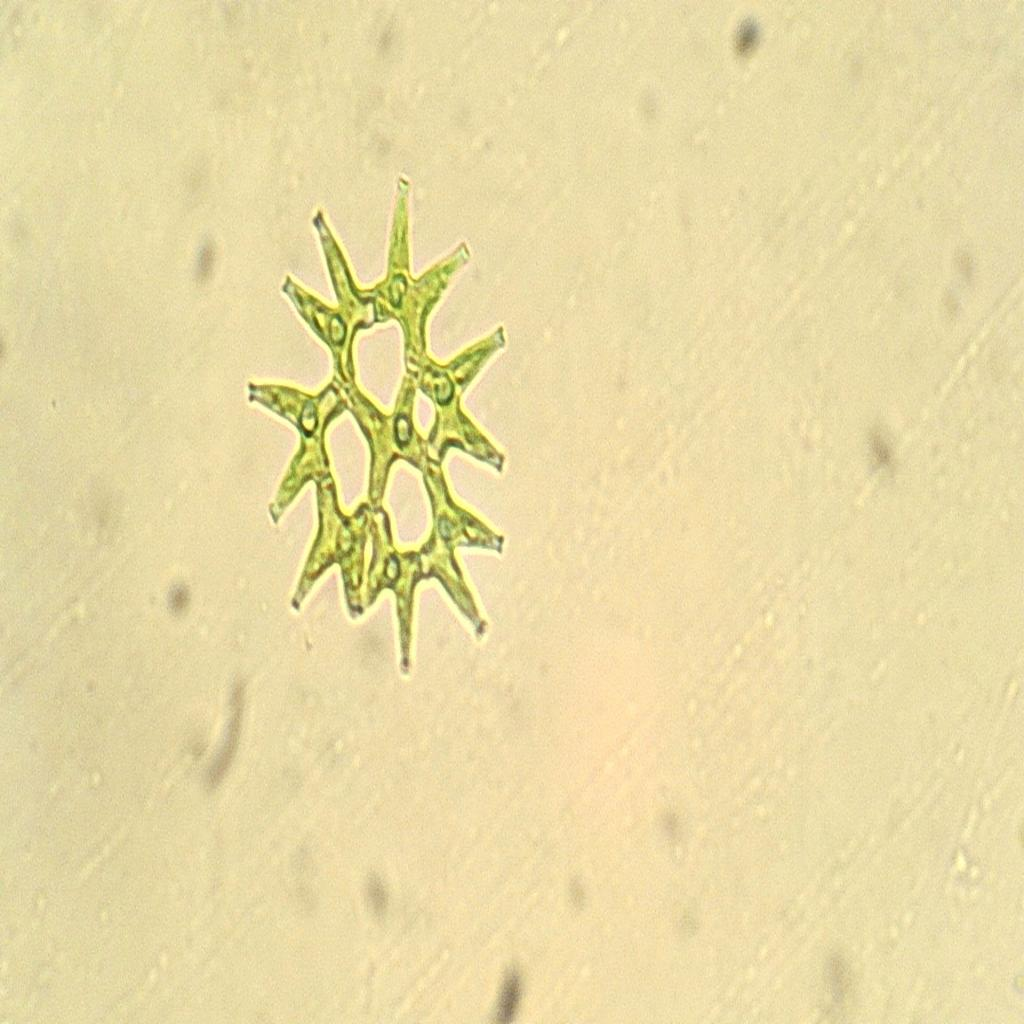Pediastrum_75T: (242, 159, 517, 680)
